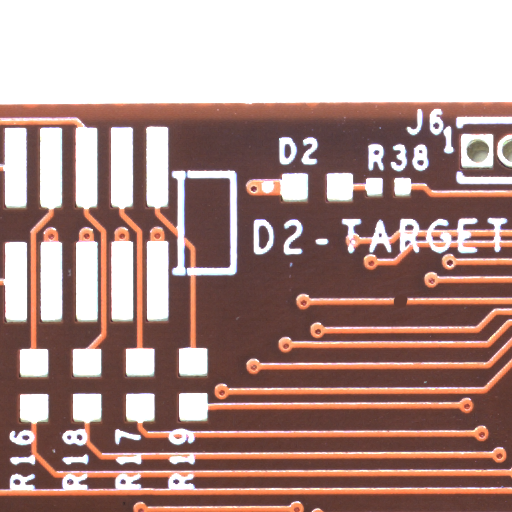Open_circuit: (400, 301, 414, 314)
